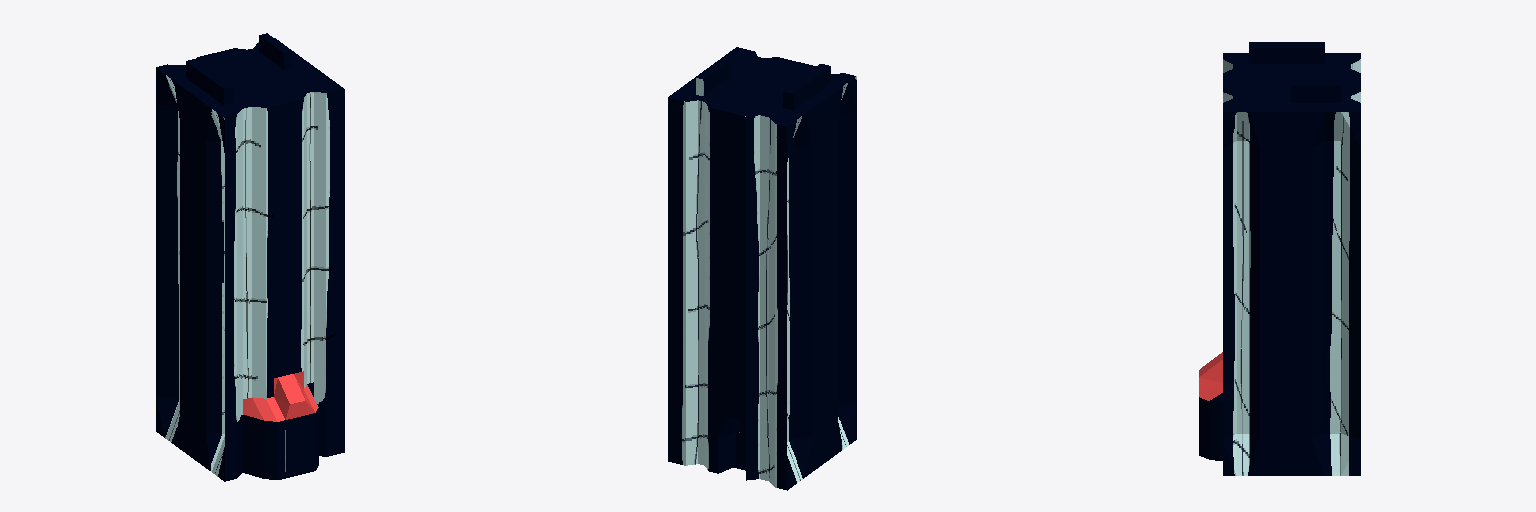
The picture shows the model from 3 angles: view 1: azimuth 30°, elevation 25°; view 2: azimuth 150°, elevation 25°; view 3: azimuth 270°, elevation 25°; orthographic projection.
Visible parts, largest first — view 1: pCube1; view 2: pCube1; view 3: pCube1.
Part boxes in pixels (x1,y1,x2,y2): pCube1: (156,33,344,481); pCube1: (668,47,856,490); pCube1: (1199,42,1360,475).
Size of the model in its own units: 17.71 by 53.77 by 20.78.
Materials: 1 (1 with a texture image).